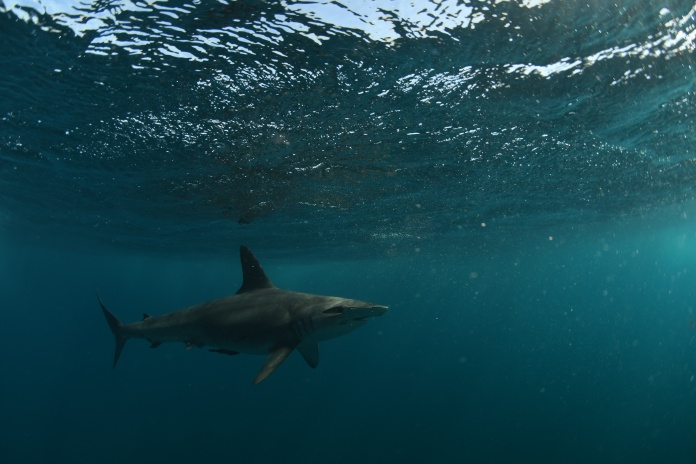Hammer: (85, 234, 406, 404)
